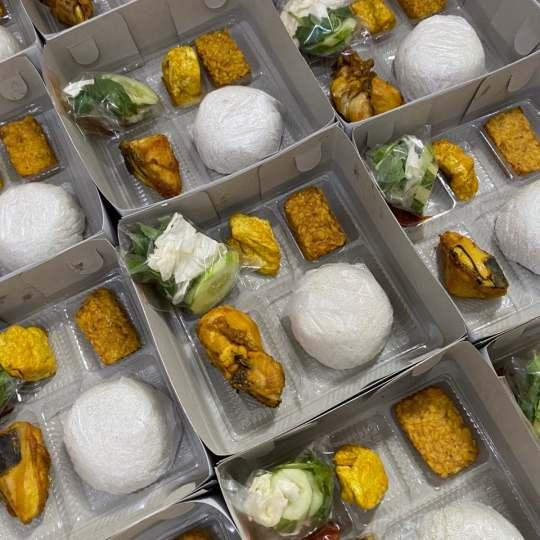buah_sayur_lainnya: (159, 243, 219, 291), (251, 484, 311, 530), (73, 82, 139, 119)
daging: (217, 315, 258, 391), (4, 435, 39, 506), (337, 65, 378, 108), (449, 234, 479, 291), (130, 145, 170, 173)
kacang_legume: (86, 297, 128, 349), (294, 198, 333, 245), (493, 114, 531, 157), (4, 126, 42, 164), (241, 224, 274, 266), (436, 142, 473, 179), (204, 37, 236, 75), (167, 51, 195, 94)
makanan_berpati: (81, 400, 145, 478), (309, 279, 377, 352), (208, 96, 264, 148), (413, 407, 467, 458), (413, 25, 466, 76), (6, 202, 65, 243), (344, 451, 376, 499), (6, 331, 44, 366), (509, 203, 540, 245)
